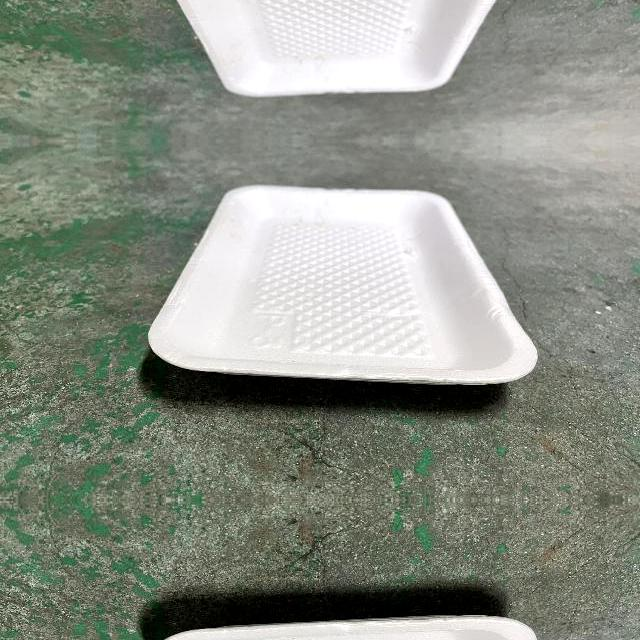Styrofoam: (148, 184, 538, 386), (149, 184, 538, 384), (148, 0, 538, 96), (177, 0, 496, 96)
